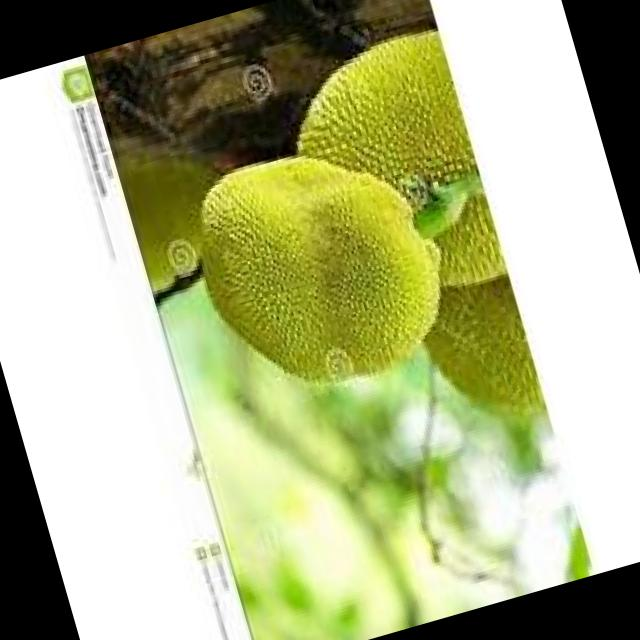Fruit: (160, 110, 480, 428)
